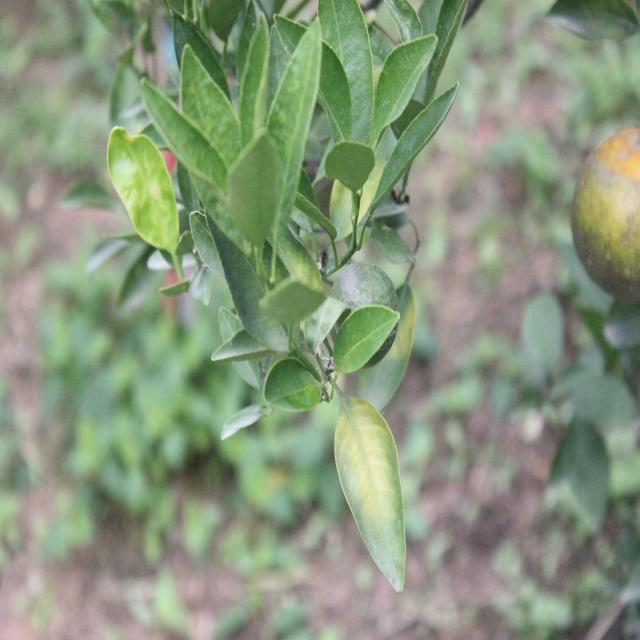greening: (326, 404, 418, 596), (110, 135, 184, 254), (276, 39, 320, 212)
